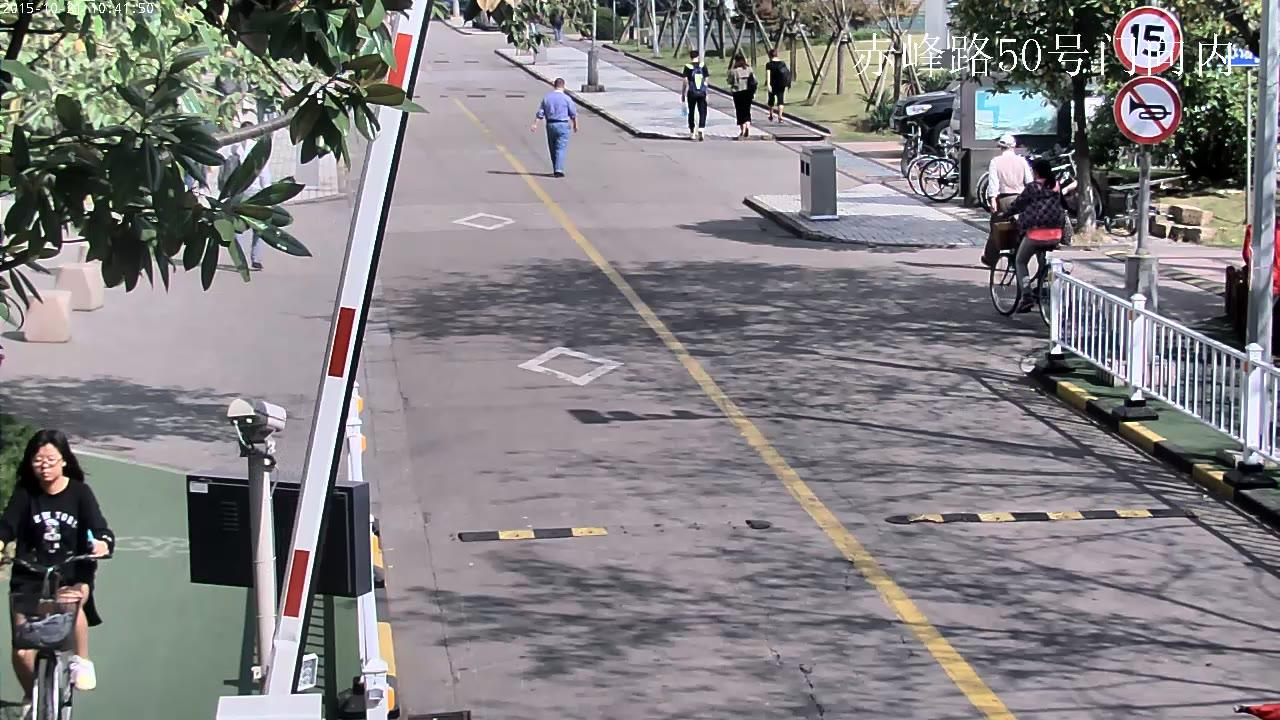person: (0, 425, 118, 720), (0, 426, 117, 720), (989, 155, 1073, 329), (997, 156, 1075, 314), (980, 133, 1034, 269), (528, 77, 578, 177), (726, 52, 758, 137), (682, 49, 710, 140), (765, 47, 792, 123), (549, 6, 564, 42)
